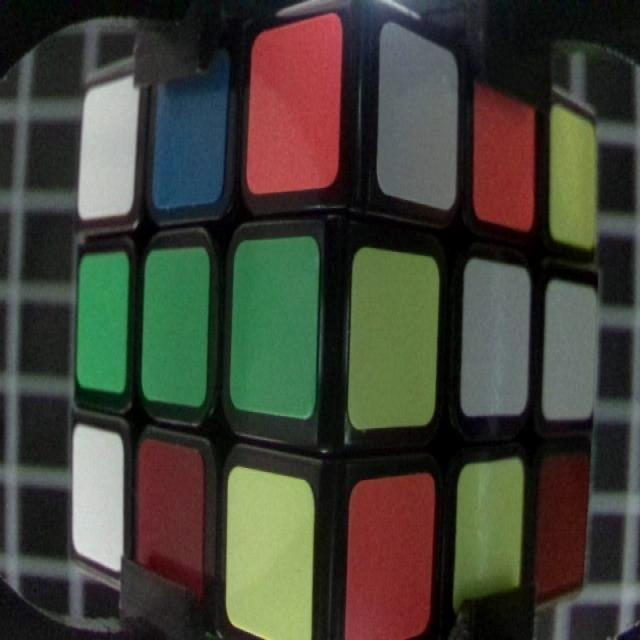b: (152, 50, 225, 206)
g: (234, 242, 313, 418), (142, 249, 208, 399), (80, 258, 126, 386)
o: (249, 17, 338, 192), (352, 482, 430, 640), (476, 76, 533, 221)
r: (139, 442, 201, 606), (541, 452, 584, 587)
w: (379, 28, 458, 204), (465, 263, 530, 413), (544, 285, 595, 419), (72, 428, 123, 559), (82, 88, 130, 212)
y: (350, 248, 434, 423), (228, 472, 312, 635), (456, 464, 522, 623), (552, 108, 598, 245)
